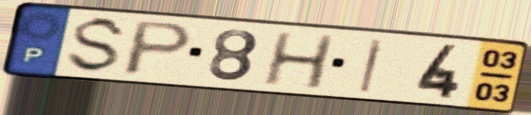4: (413, 43, 464, 101)
8: (206, 27, 262, 83)
H: (259, 30, 338, 92)
I: (356, 37, 389, 95)
P: (118, 19, 198, 78)
S: (62, 15, 131, 76)
